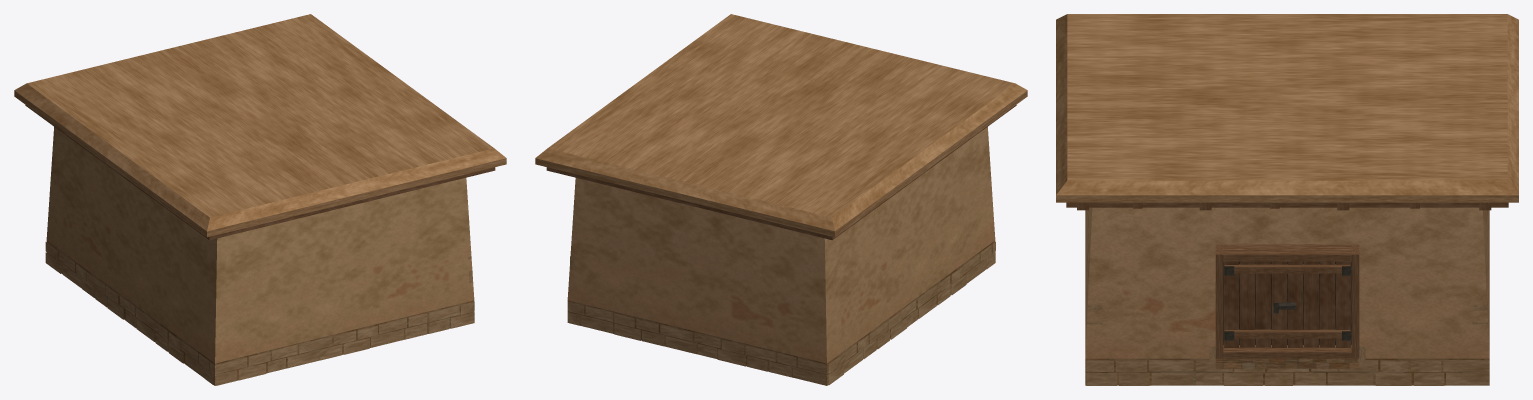
File: basin_storehouse.glb
3 views of the same model, side by side, from view 1: azimuth 30°, elevation 25°; view 2: azimuth 150°, elevation 25°; view 3: azimuth 270°, elevation 25° (orthographic). The views are drawn at different scales.
Visible parts, largest first — view 1: STOREHOUSE_HERO; view 2: STOREHOUSE_HERO; view 3: STOREHOUSE_HERO.
Boxes of the visible parts, <box> form: STOREHOUSE_HERO: <box>14,14,506,385</box>; STOREHOUSE_HERO: <box>535,14,1027,385</box>; STOREHOUSE_HERO: <box>1056,14,1518,385</box>.
Bounding box in the file's own units: 9.25 × 5.22 × 10.3.
2 materials, 2 textured.
